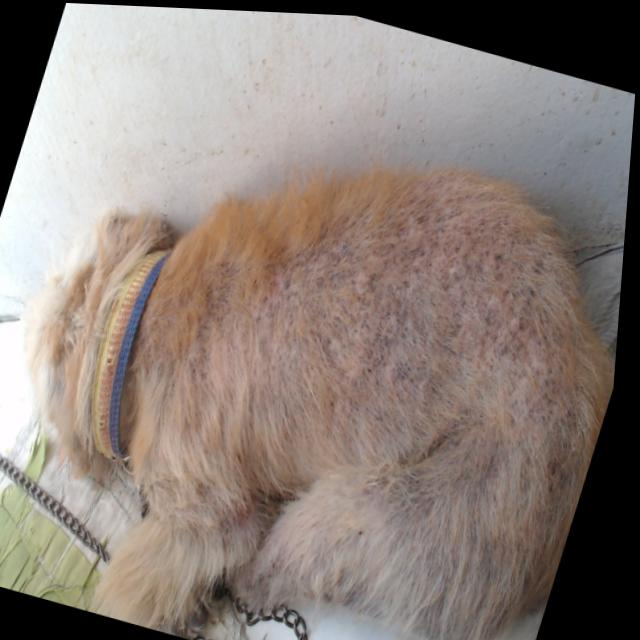demodicosis: (265, 170, 573, 478)
